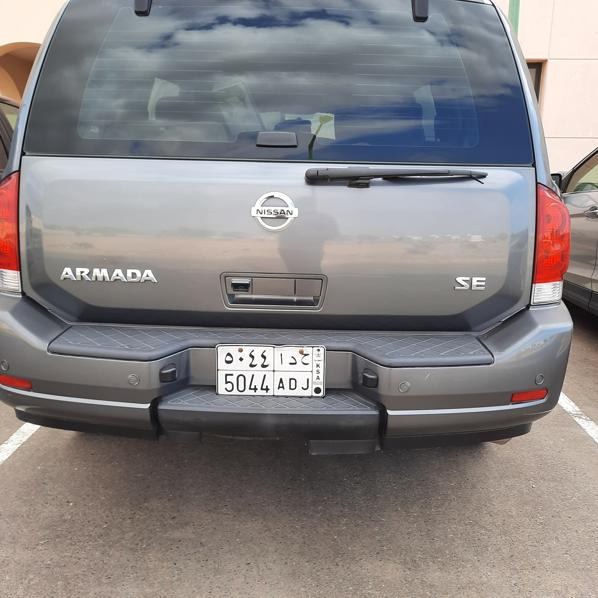numberplate: (218, 347, 324, 397)
